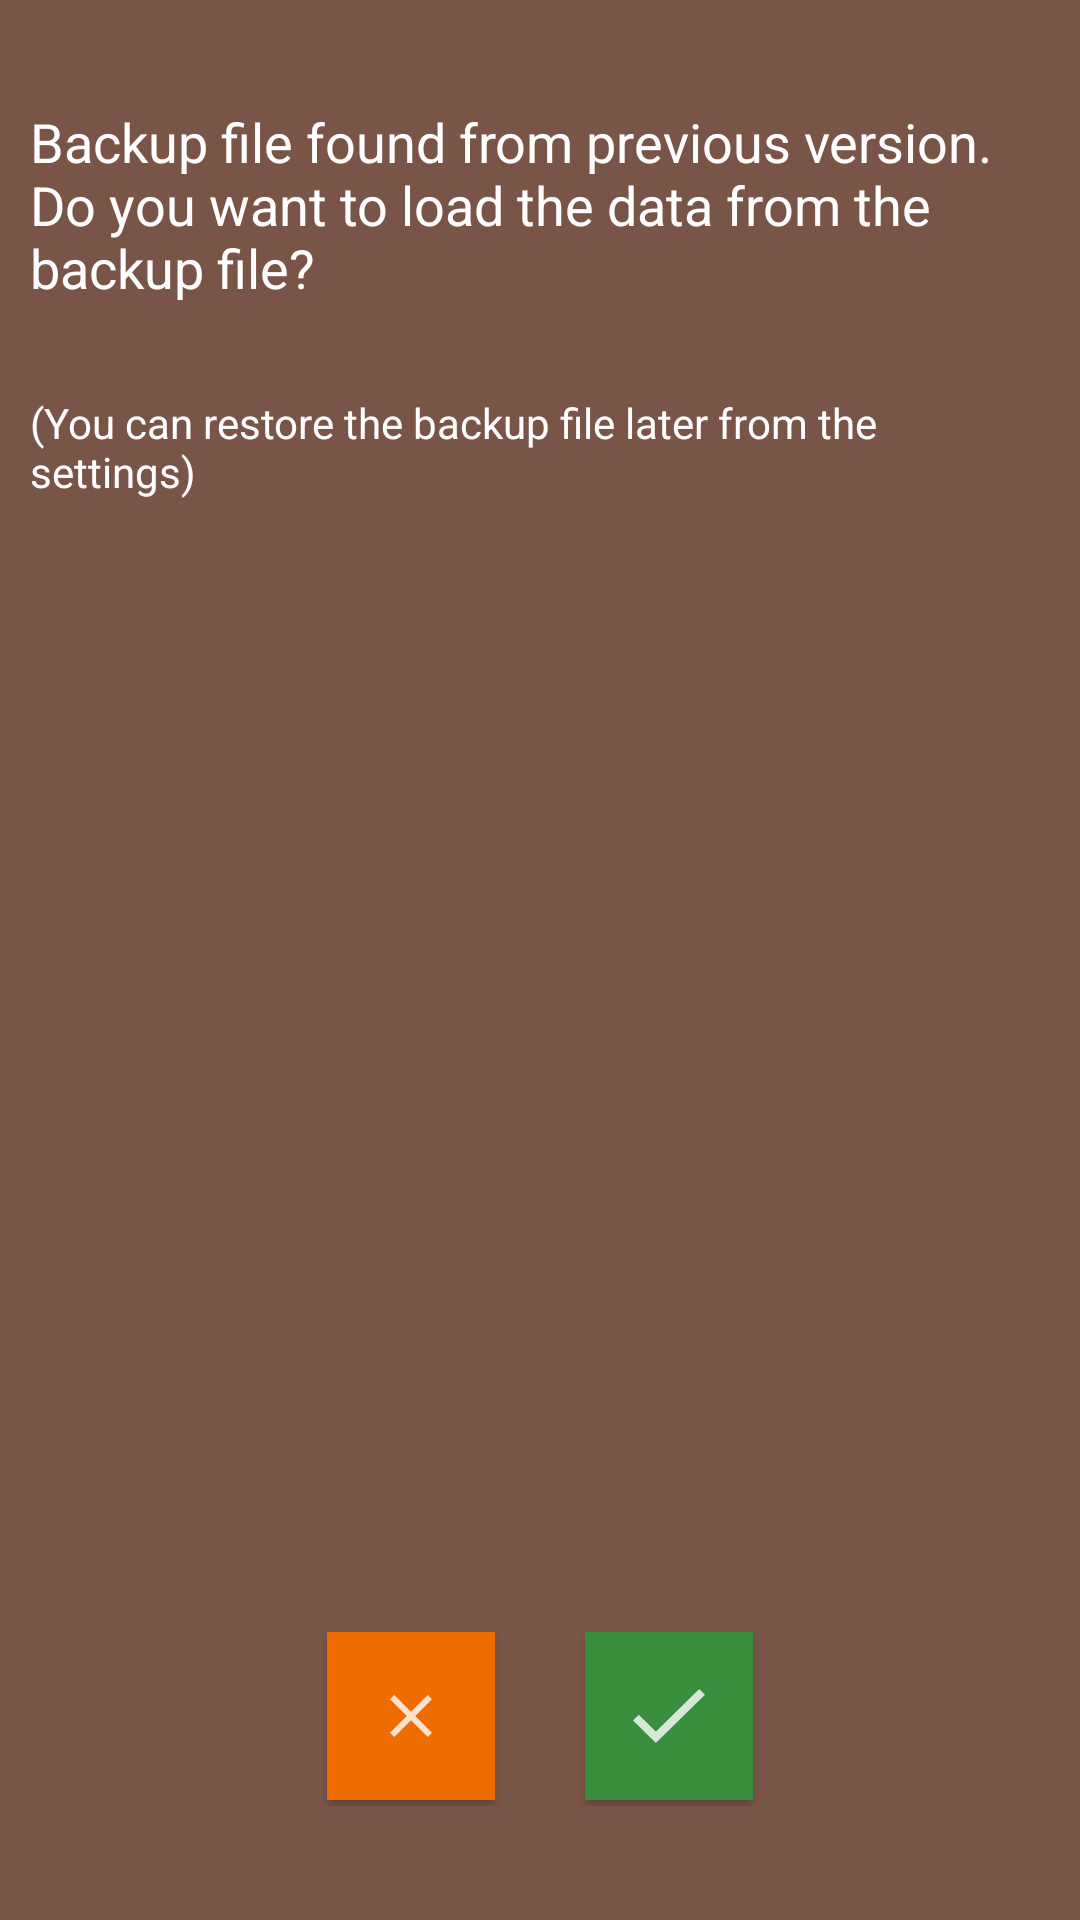

Locate icon controls on the screen. Image size 1080px x 1920px, boxes as (x1, y1, x2, y2).
cancel: (327, 1632, 495, 1800)
done: (585, 1632, 753, 1800)
